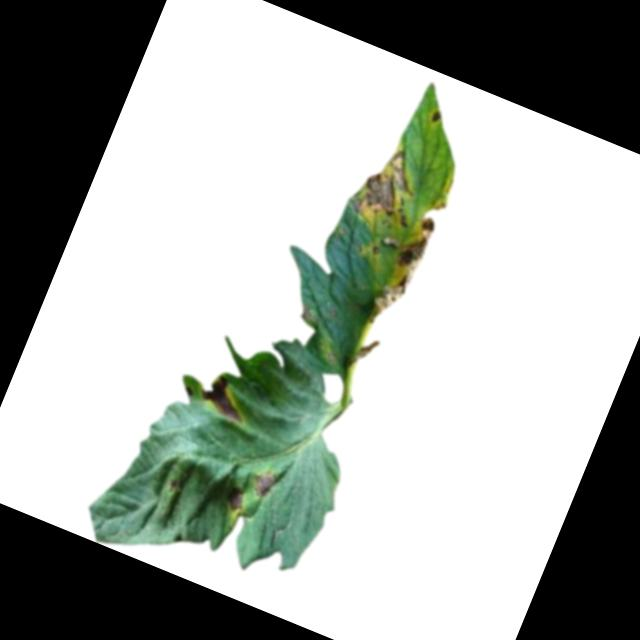Early_blight: (363, 192, 446, 329), (342, 137, 429, 231), (195, 373, 254, 429), (250, 470, 278, 497), (227, 492, 248, 515), (428, 108, 446, 130)
